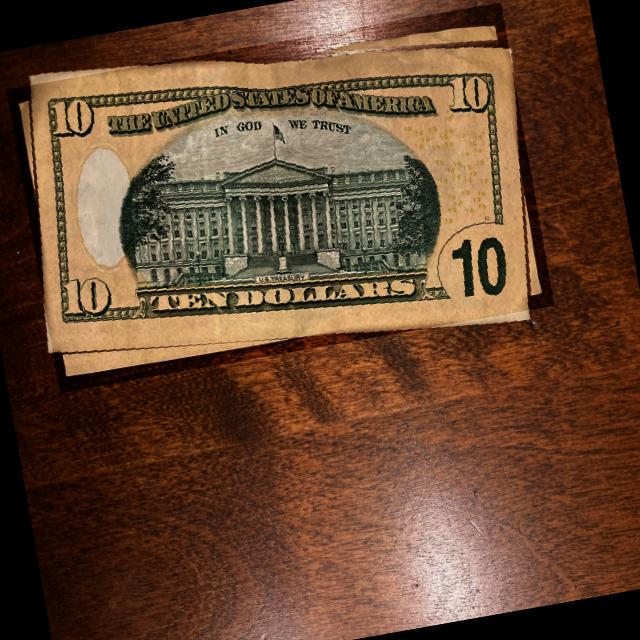ten: (6, 2, 554, 393)
